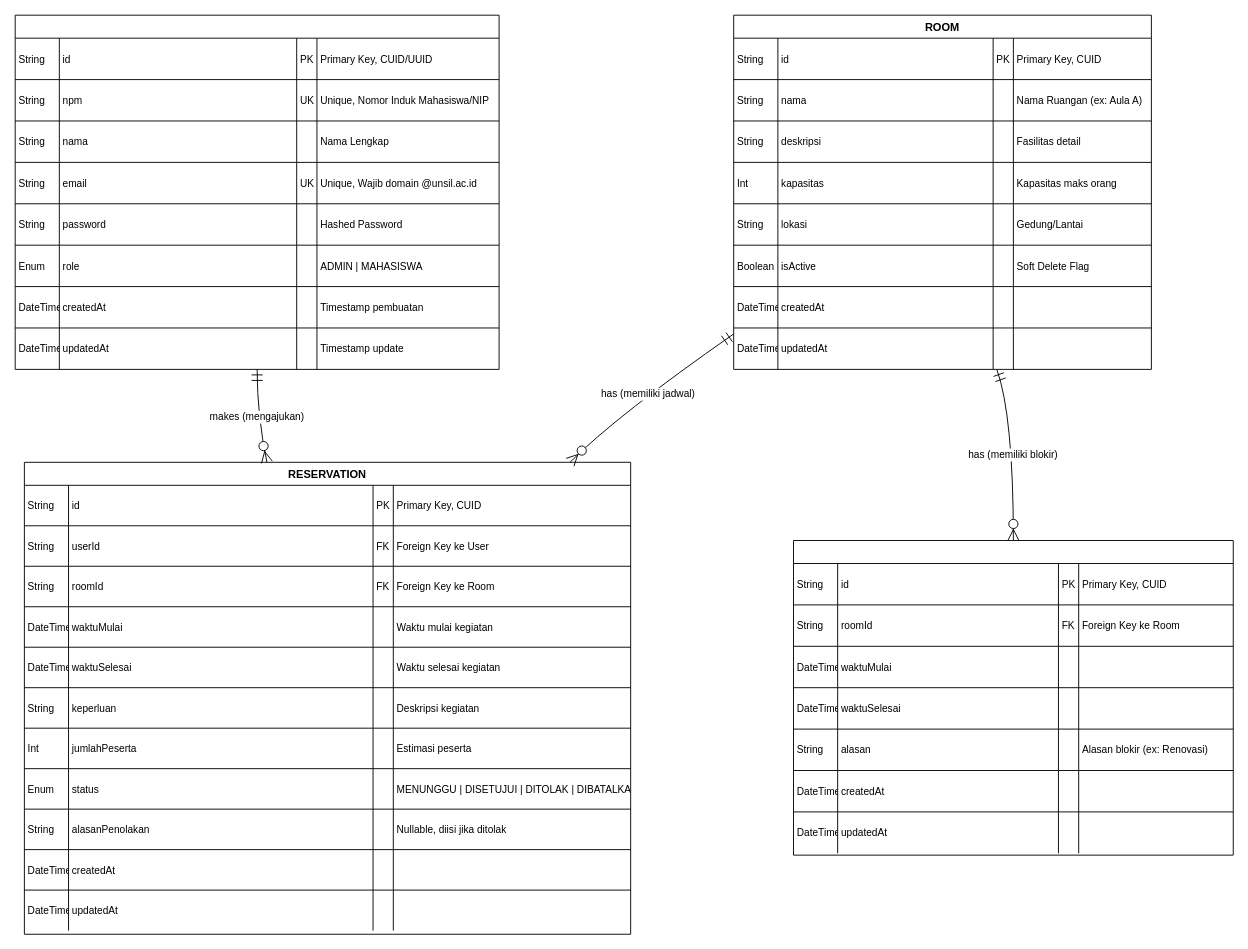
Image size: 1248x949. Some labels were removed from this diagram. The shapes that lost their labels are listed below. From the top down, each one's box as (x1, y1, x2, y2) in pixels, then its label:
(14, 14, 499, 369): USER
(793, 540, 1233, 855): BLOCKED_SLOT
